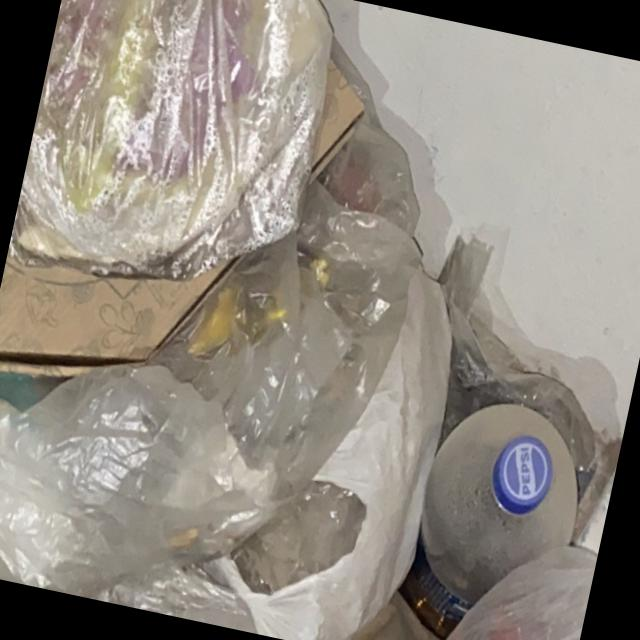general: (9, 0, 345, 298), (391, 384, 598, 640)
